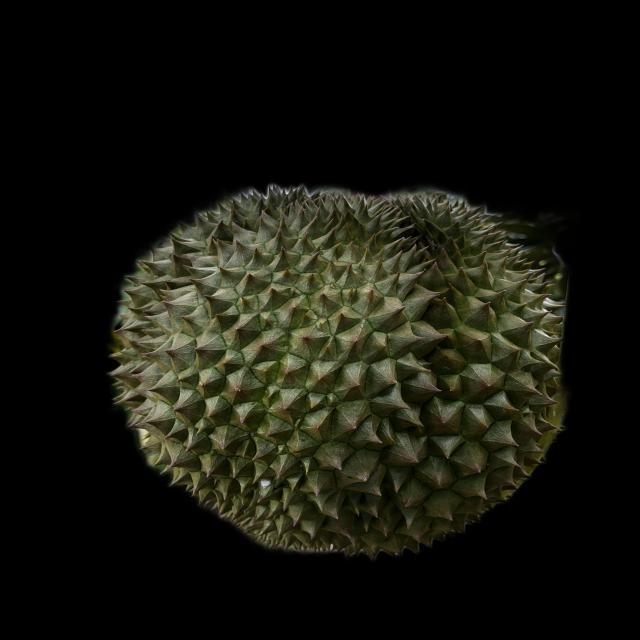immature: (106, 179, 568, 557)
